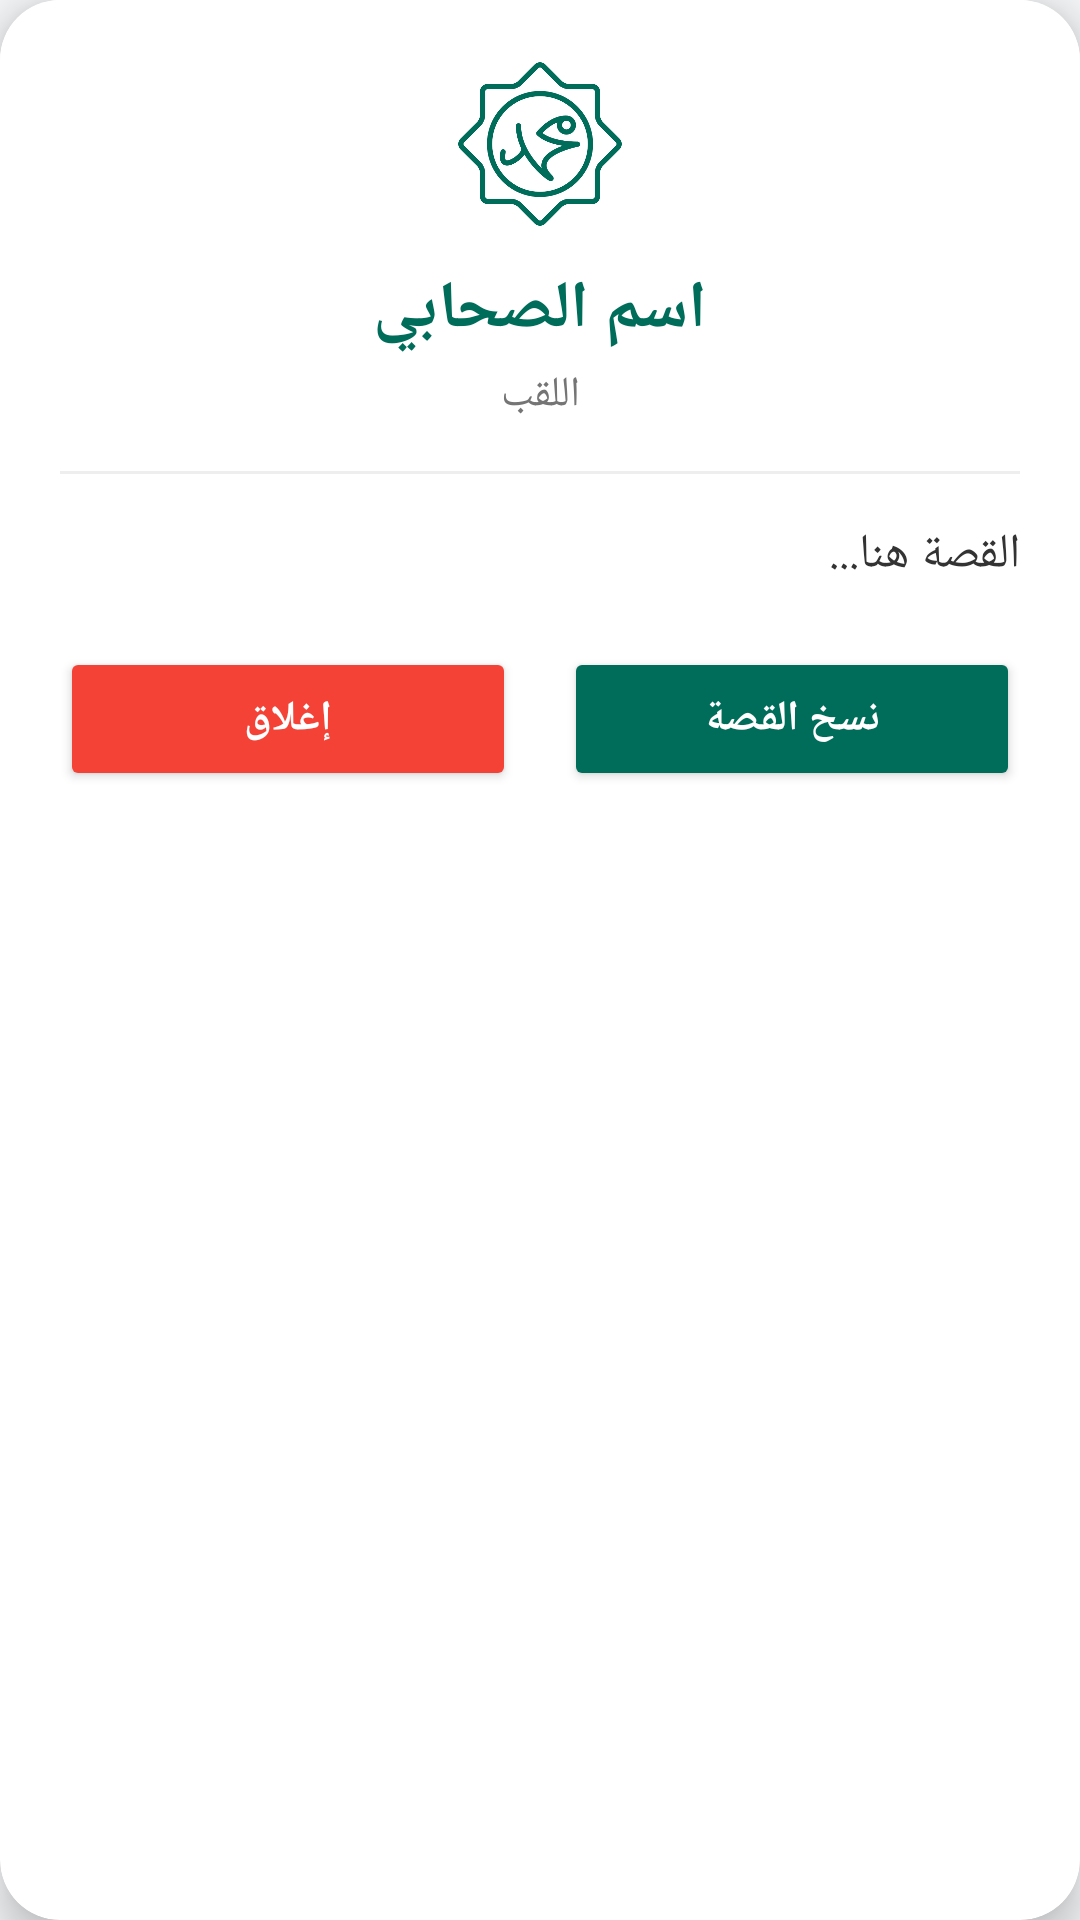

Where icons sit on this 1080x1920 app screen, as (x1, y1, x2, y2):
prophet: (458, 62, 622, 226)
